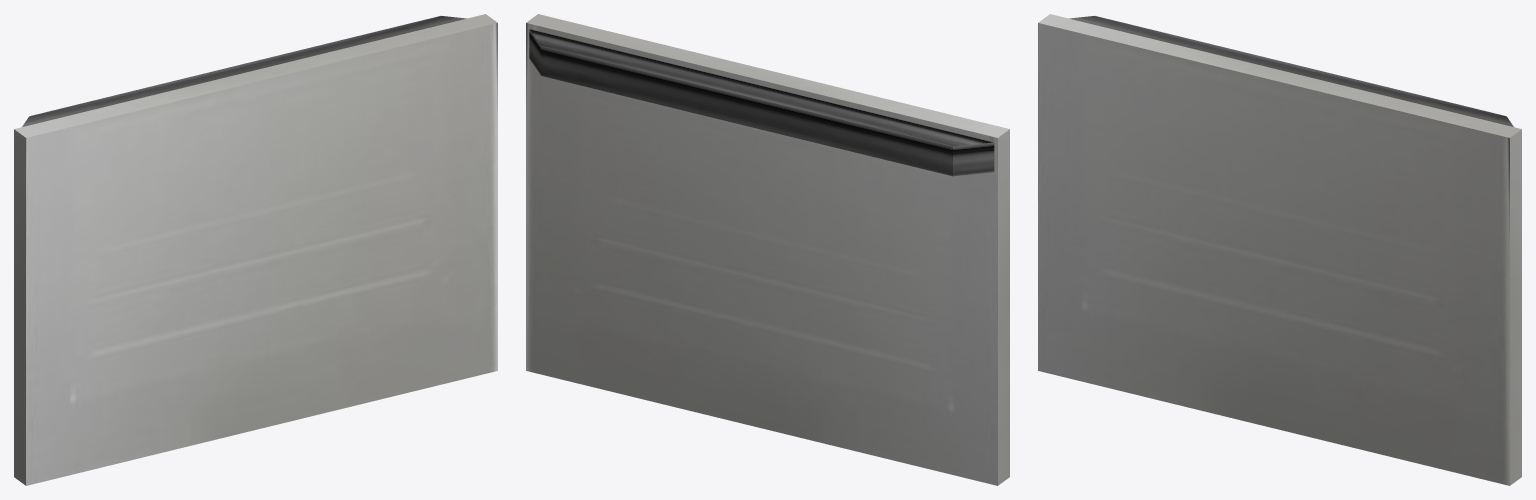
Rendered from Stove_door_01.glb.
3 views of the same model, side by side, from view 1: azimuth 30°, elevation 25°; view 2: azimuth 150°, elevation 25°; view 3: azimuth 330°, elevation 25° (orthographic).
Visible parts, largest first — view 1: Stove_door_01; view 2: Stove_door_01; view 3: Stove_door_01.
Part boxes in pixels (x1,y1,x2,y2): Stove_door_01: [14, 14, 497, 485]; Stove_door_01: [526, 14, 1009, 485]; Stove_door_01: [1038, 14, 1521, 485].
Size of the model in its own units: 0.8921 by 0.6288 by 0.0882.
1 material, 1 textured.
